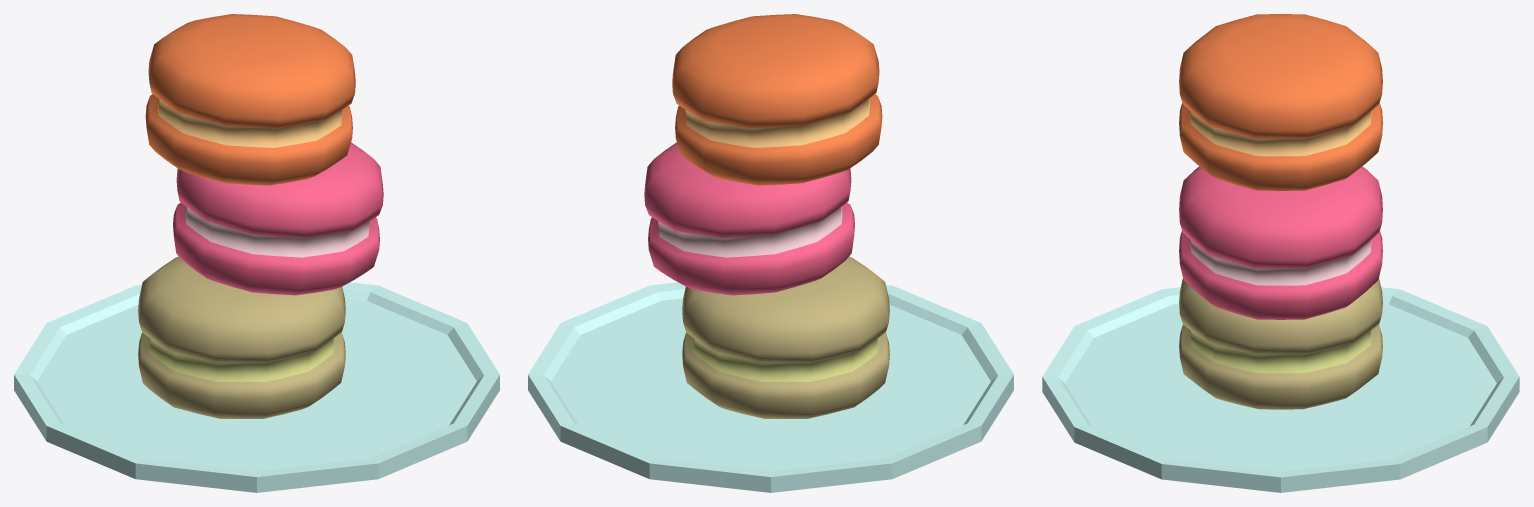
Rendered from Makaroniki.fbx.
The picture shows the model from 3 angles, left to right: view 1: azimuth 30°, elevation 25°; view 2: azimuth 150°, elevation 25°; view 3: azimuth 270°, elevation 25°; orthographic projection.
Parts seen in each view (by area): view 1: Makaroniki; view 2: Makaroniki; view 3: Makaroniki.
Boxes of the visible parts, x1,y1,x2,y2 form: Makaroniki: [14, 14, 499, 492]; Makaroniki: [528, 14, 1013, 492]; Makaroniki: [1042, 14, 1519, 492].
Size of the model in its own units: 249 by 200 by 249.
